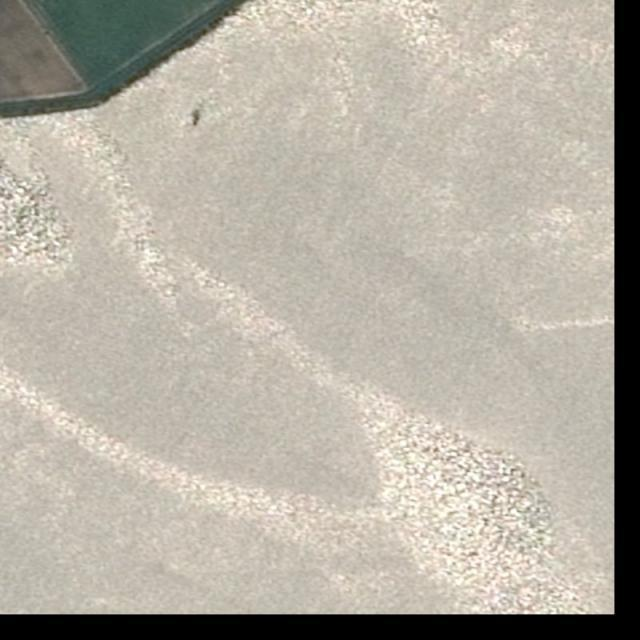ship: (192, 112, 201, 127)
